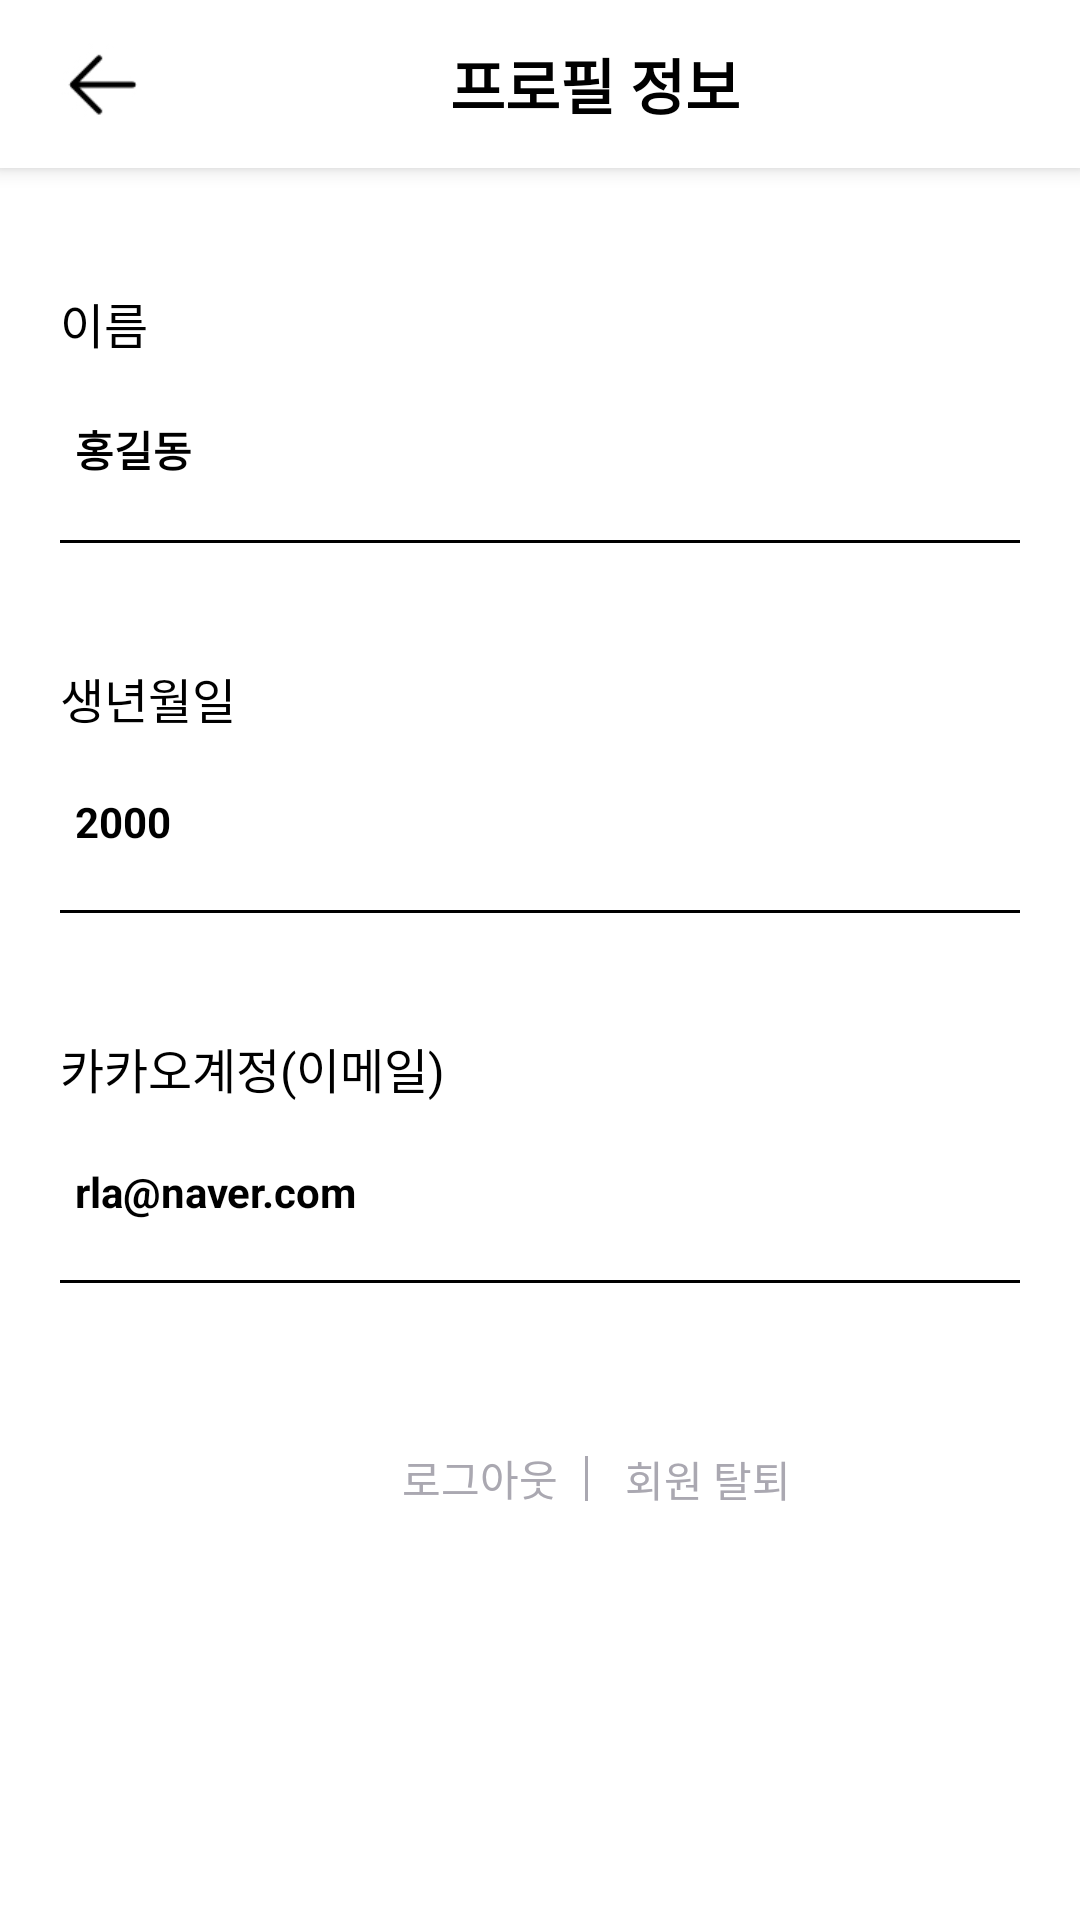

Screen size 1080 x 1920. Icon name, then its box in pixels as [x1, y1, x2, y2]:
login page backarrow: [69, 54, 136, 115]
